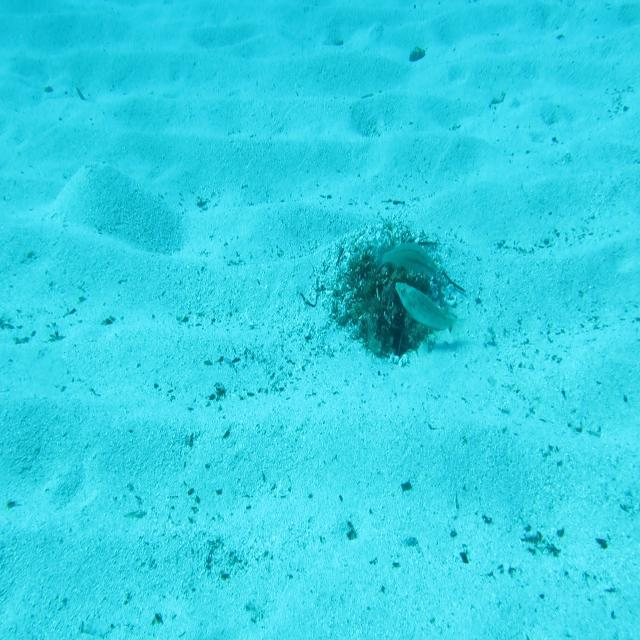DAN_CIRC: (391, 273, 458, 339)
female: (372, 236, 444, 287)
nest: (329, 212, 454, 368)
